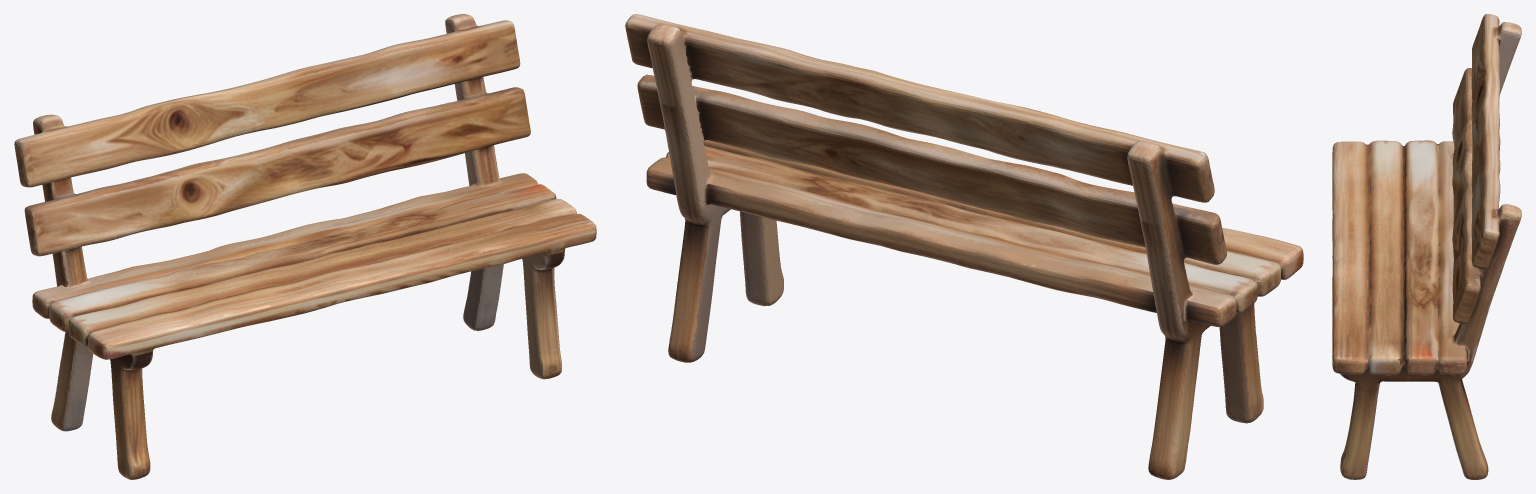
Rendered from mdl_bench_001.glb.
The picture shows the model from 3 angles, left to right: view 1: azimuth 30°, elevation 25°; view 2: azimuth 150°, elevation 25°; view 3: azimuth 270°, elevation 25°; orthographic projection. The views are drawn at different scales.
Visible parts, largest first — view 1: tmphxgdrpnx.ply; view 2: tmphxgdrpnx.ply; view 3: tmphxgdrpnx.ply.
Boxes of the visible parts, x1,y1,x2,y2 form: tmphxgdrpnx.ply: [14, 14, 596, 479]; tmphxgdrpnx.ply: [625, 14, 1303, 479]; tmphxgdrpnx.ply: [1332, 14, 1521, 479].
Bounding box in the file's own units: 0.9909 × 0.5716 × 0.3619.
1 material, 1 textured.
